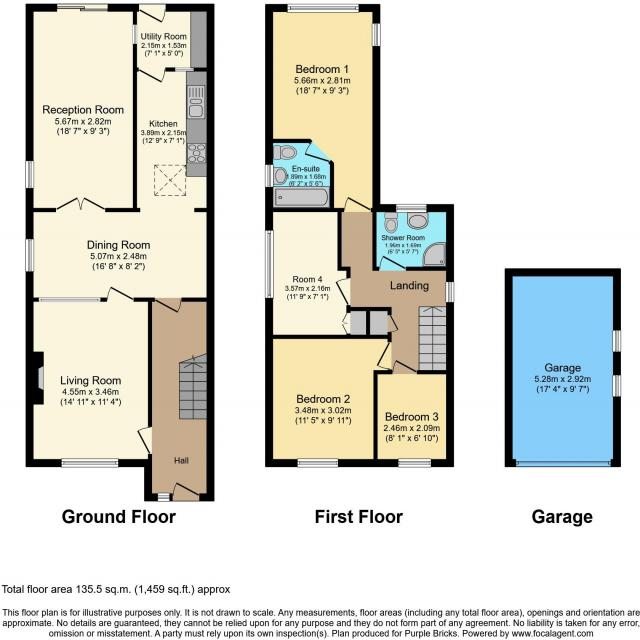DOOR: (302, 141, 332, 163), (132, 424, 152, 455), (341, 194, 374, 212), (373, 339, 392, 370), (105, 284, 135, 302), (333, 276, 350, 306), (391, 358, 420, 375)
DOUBLE DOOR: (54, 194, 108, 212)
ROOM: (25, 65, 216, 313), (264, 2, 381, 212), (24, 0, 136, 209), (25, 285, 153, 467), (264, 335, 393, 468), (263, 207, 370, 340), (373, 358, 454, 467)
SLIDING DOOR: (55, 3, 109, 12)
WINDOW: (285, 2, 361, 14), (263, 226, 275, 300), (58, 457, 120, 468), (395, 457, 434, 470), (294, 457, 340, 468), (24, 237, 36, 274), (392, 202, 428, 214), (37, 297, 101, 303), (370, 21, 383, 49), (611, 371, 623, 400), (24, 159, 35, 190), (444, 279, 456, 305), (611, 328, 622, 354), (264, 161, 274, 189), (156, 491, 172, 503), (132, 23, 138, 46), (173, 67, 195, 72)
